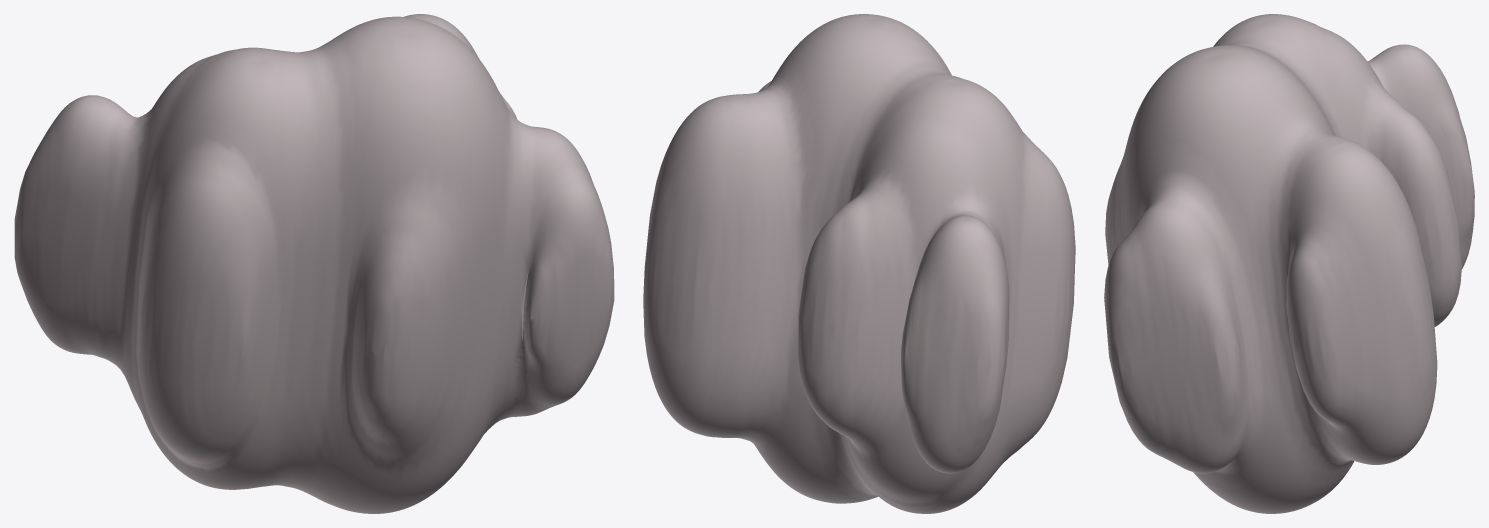
The model's file is Meteor3.fbx.
3 renders of one model, left to right at view 1: azimuth 30°, elevation 25°; view 2: azimuth 150°, elevation 25°; view 3: azimuth 270°, elevation 25°, orthographic. The views are drawn at different scales.
Parts seen in each view (by area): view 1: root; view 2: root; view 3: root.
Part boxes in pixels (x1,y1,x2,y2): root: (14, 14, 614, 513); root: (643, 14, 1075, 513); root: (1104, 14, 1474, 513).
Size of the model in its own units: 0.2807 by 0.3035 by 0.2265.
1 material, 1 textured.
